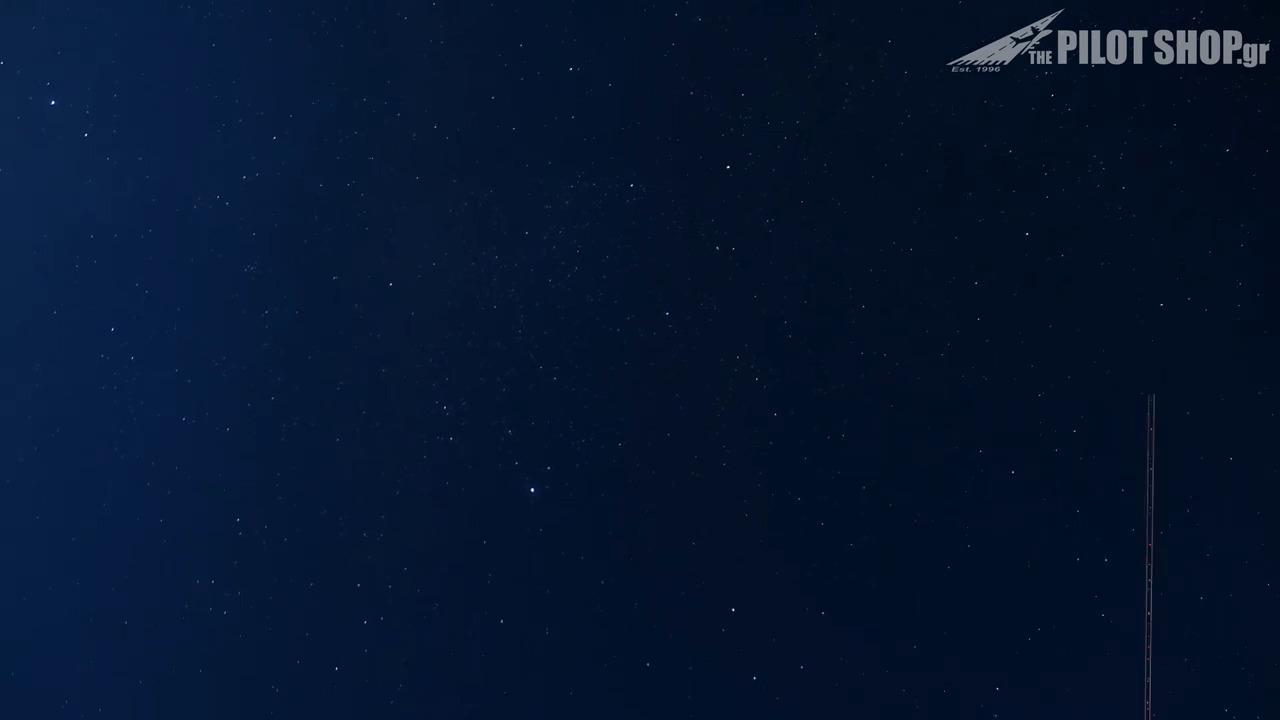Plane: (1130, 384, 1161, 717)
